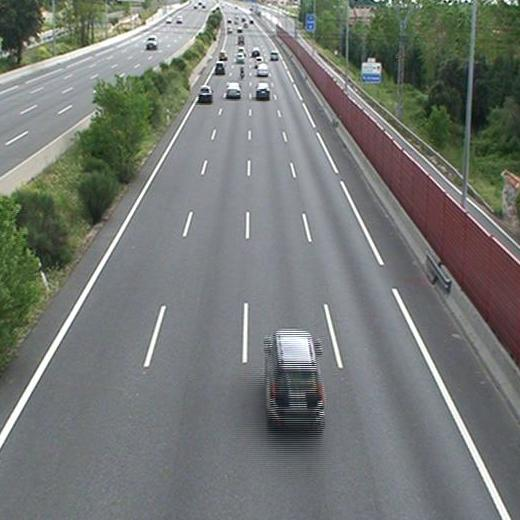car: (265, 330, 324, 422), (226, 83, 241, 98), (199, 86, 213, 100), (256, 82, 269, 97), (214, 61, 225, 73), (257, 64, 267, 75), (270, 50, 280, 60), (235, 53, 245, 61)
motorcycle: (237, 64, 246, 81)
